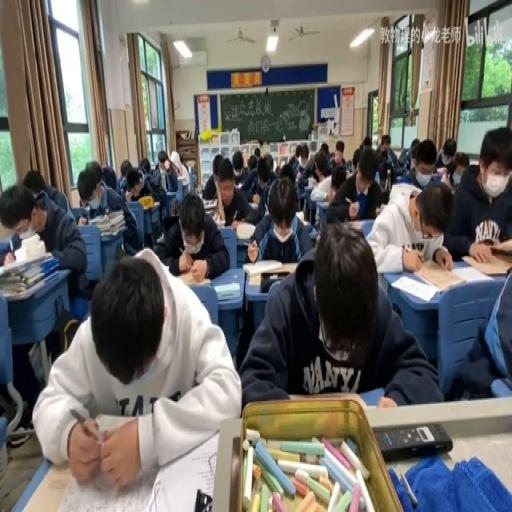calculator: (149, 430, 222, 510), (416, 262, 466, 292), (462, 252, 510, 276), (405, 232, 441, 260), (174, 267, 209, 286), (242, 260, 282, 276), (312, 196, 329, 226), (214, 282, 240, 300), (490, 236, 512, 255), (234, 222, 257, 240), (347, 219, 371, 235), (99, 220, 125, 234), (99, 208, 124, 222), (18, 226, 38, 239), (158, 169, 168, 192), (294, 209, 308, 225), (247, 272, 263, 284), (211, 212, 225, 225), (201, 196, 216, 208), (80, 205, 90, 222), (246, 200, 260, 212), (88, 214, 104, 224), (308, 226, 318, 240), (146, 199, 159, 209), (222, 222, 236, 230), (296, 182, 306, 193), (234, 181, 244, 189), (156, 233, 163, 243), (264, 202, 270, 213), (469, 160, 478, 166)
paper: (35, 247, 241, 485), (242, 218, 438, 410), (0, 179, 84, 310), (0, 294, 45, 510), (443, 126, 512, 262), (153, 186, 229, 279), (80, 158, 141, 260), (325, 142, 384, 224), (242, 154, 277, 218), (374, 136, 398, 188), (162, 146, 190, 190), (202, 154, 226, 202), (292, 145, 317, 189), (434, 136, 456, 175), (398, 135, 418, 171), (22, 168, 46, 195), (308, 176, 333, 200), (101, 161, 117, 189), (330, 138, 346, 165), (278, 160, 296, 184), (126, 178, 142, 199), (453, 152, 469, 172), (314, 155, 327, 176), (138, 155, 150, 176), (232, 151, 242, 176), (119, 159, 131, 178), (260, 138, 270, 158), (351, 146, 360, 166), (247, 155, 258, 171), (258, 171, 268, 186), (362, 136, 372, 150), (118, 174, 126, 190), (319, 142, 328, 155), (253, 145, 260, 158), (346, 158, 352, 171)
person: (373, 422, 451, 461), (193, 488, 212, 509), (476, 236, 494, 243), (172, 198, 178, 216)
